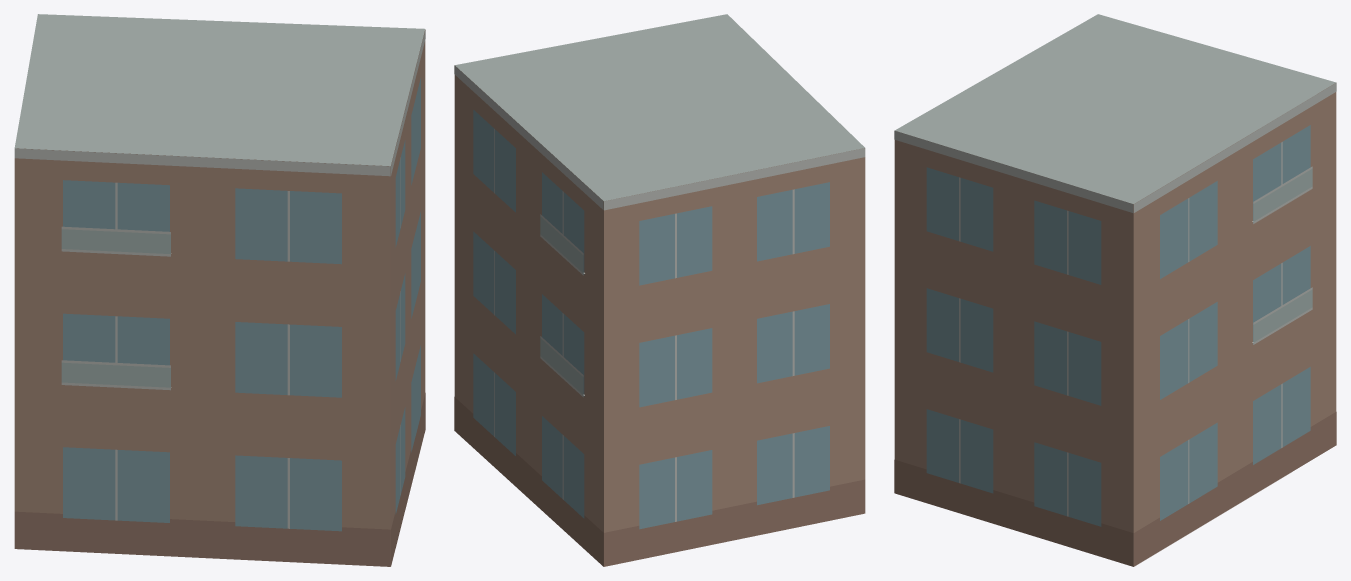
The model's file is survey-upis-32491793.glb.
3 renders of one model, left to right at view 1: azimuth 30°, elevation 25°; view 2: azimuth 150°, elevation 25°; view 3: azimuth 270°, elevation 25°, orthographic. The views are drawn at different scales.
Visible parts, largest first — view 1: survey-upis-32491793.tmp; view 2: survey-upis-32491793.tmp; view 3: survey-upis-32491793.tmp.
Boxes of the visible parts, x1,y1,x2,y2 form: survey-upis-32491793.tmp: (14, 14, 425, 566); survey-upis-32491793.tmp: (454, 14, 865, 566); survey-upis-32491793.tmp: (894, 14, 1336, 566).
Bounding box in the file's own units: 10.92 × 9.7 × 10.72.
